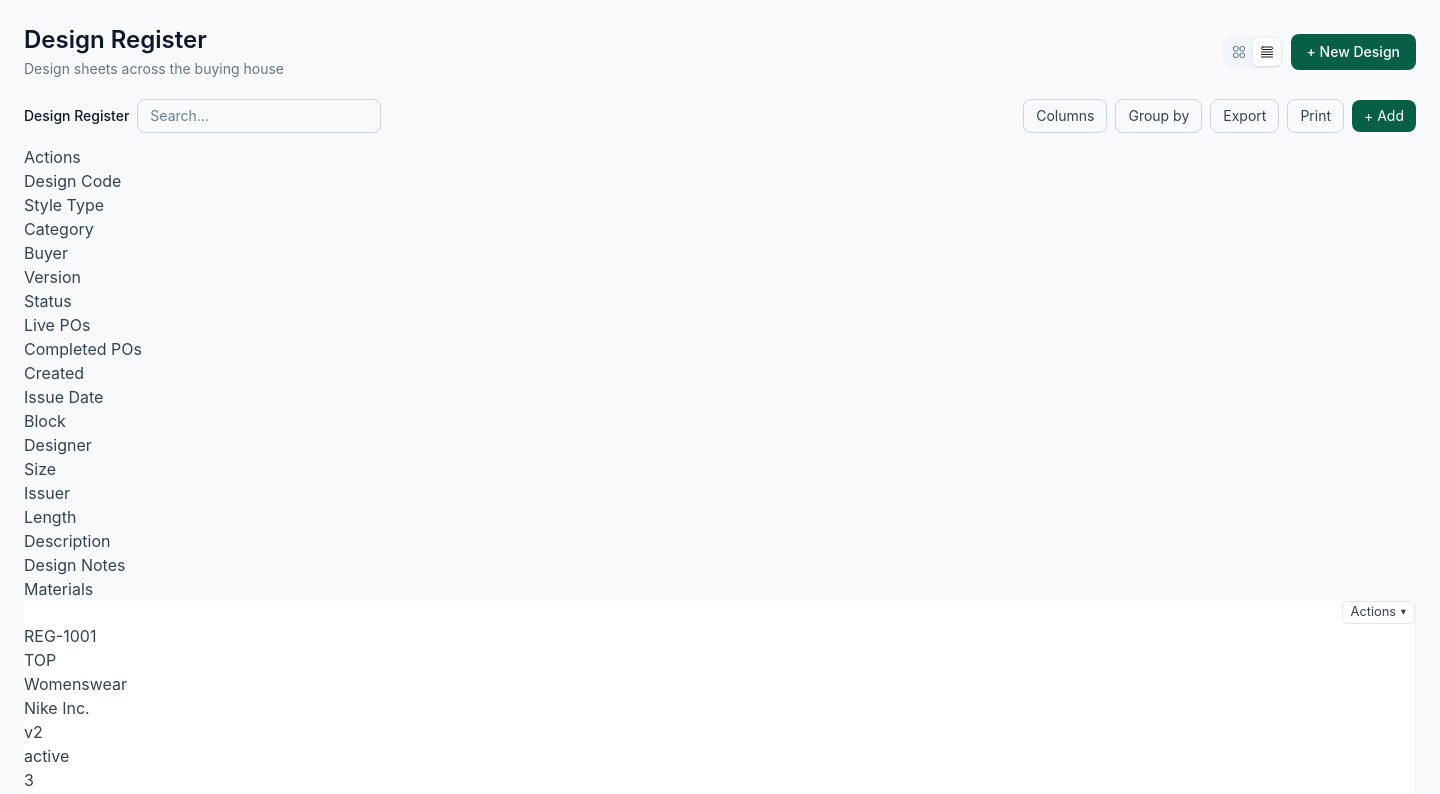
DesignsPage (Design register) › opens the view modal on row click with the row details
Click the text "REG-1001".
click(720, 636)  # box [24,624,1416,648]
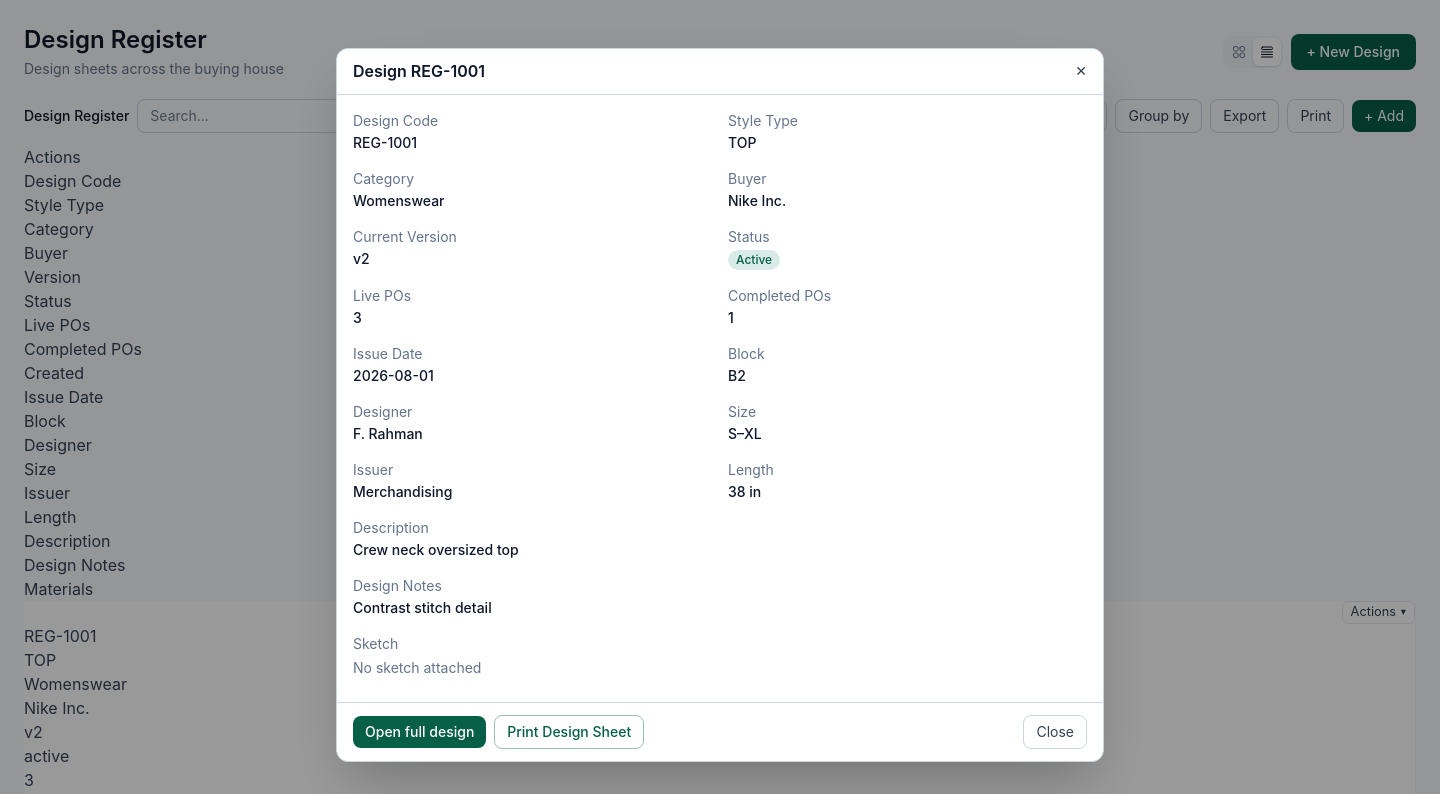
Result: the text "Nike Inc." is shown at [728,192,786,209]
Result: the text "Active" is shown at [728,250,780,270]
